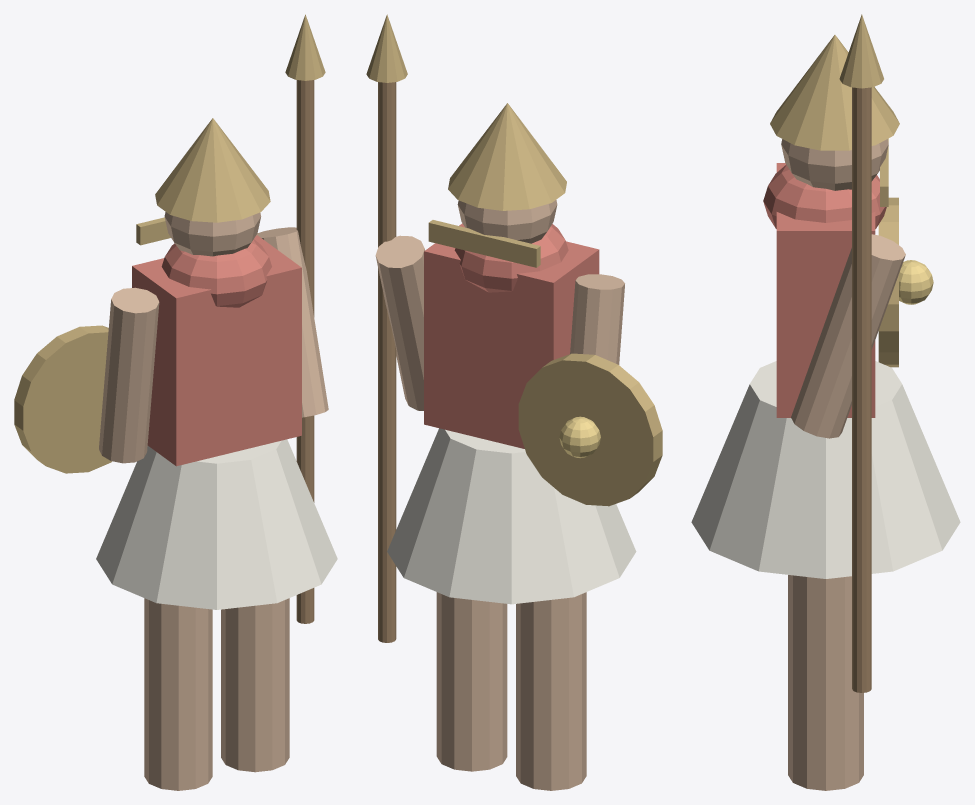
File: spearman_hi.glb
3 views of the same model, side by side, from view 1: azimuth 30°, elevation 25°; view 2: azimuth 150°, elevation 25°; view 3: azimuth 270°, elevation 25° (orthographic). The views are drawn at different scales.
Visible parts, largest first — view 1: Skin, Tunic, Dhoti, Armor, Shaft; view 2: Skin, Dhoti, Armor, Tunic, Shaft, Boss; view 3: Dhoti, Skin, Tunic, Shaft, Armor, Boss.
Boxes of the visible parts, bbox=[...] form: Skin: bbox=[99, 212, 328, 790]; Tunic: bbox=[132, 235, 301, 466]; Dhoti: bbox=[96, 439, 337, 609]; Armor: bbox=[14, 14, 325, 473]; Shaft: bbox=[296, 80, 314, 623]; Skin: bbox=[375, 200, 624, 790]; Dhoti: bbox=[387, 428, 636, 604]; Armor: bbox=[366, 14, 662, 506]; Tunic: bbox=[424, 223, 599, 448]; Shaft: bbox=[378, 82, 396, 642]; Boss: bbox=[559, 416, 600, 458]; Dhoti: bbox=[691, 361, 960, 578]; Skin: bbox=[781, 139, 905, 790]; Tunic: bbox=[763, 163, 886, 417]; Shaft: bbox=[852, 87, 871, 692]; Armor: bbox=[770, 14, 899, 367]; Boss: bbox=[899, 260, 933, 304].
Size of the model in its own units: 0.8371 by 1.96 by 0.6.
